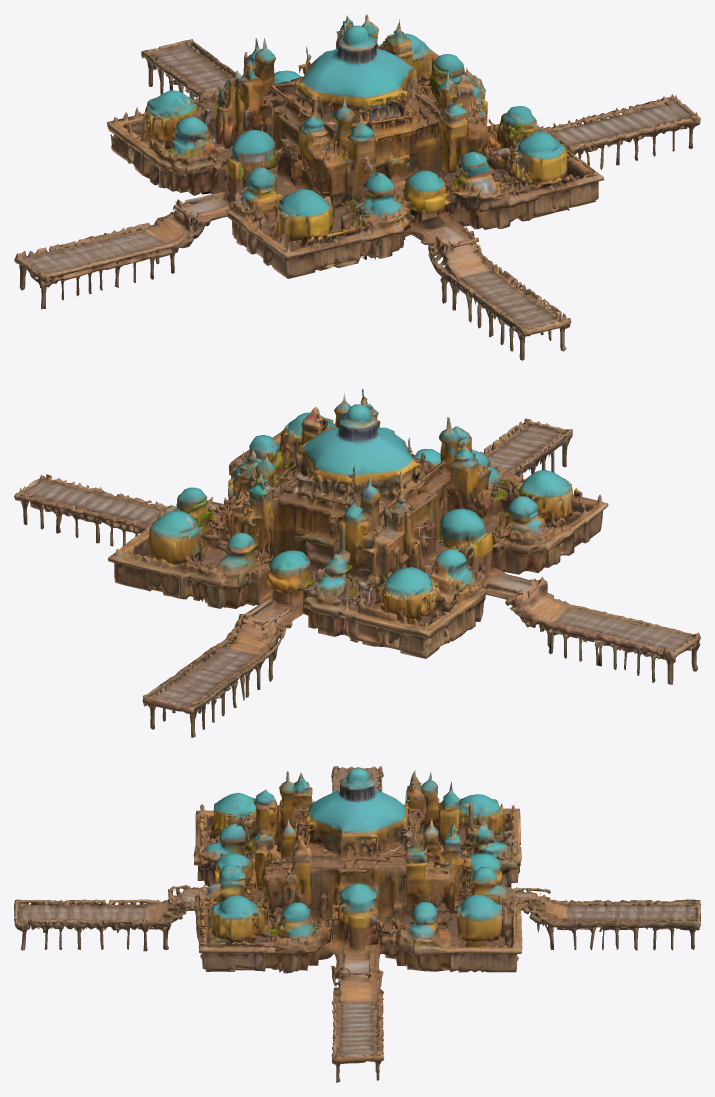
The model's file is island_6.glb.
3 renders of one model, top to bottom at view 1: azimuth 30°, elevation 25°; view 2: azimuth 150°, elevation 25°; view 3: azimuth 270°, elevation 25°, orthographic. The views are drawn at different scales.
Size of the model in its own units: 2 by 0.5631 by 2.
Materials: 1 (1 with a texture image).
